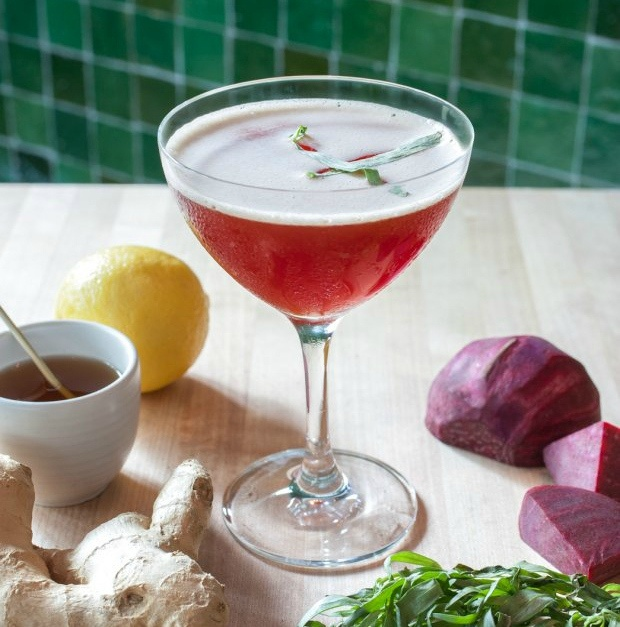background: (288, 288, 600, 613), (0, 172, 223, 613), (159, 93, 452, 312), (0, 48, 115, 393), (52, 149, 204, 385)
